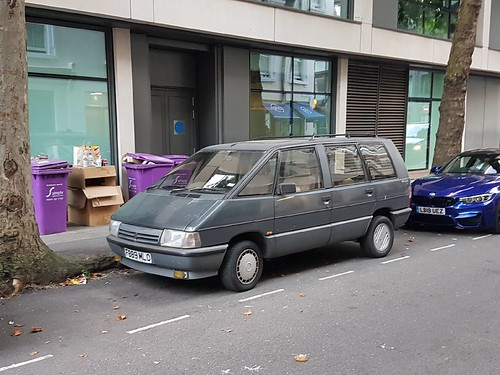building: (21, 1, 500, 200)
car: (110, 132, 405, 290), (411, 140, 500, 232)
street: (19, 246, 500, 375)
trash: (70, 168, 129, 230)
trash can: (28, 155, 75, 234), (123, 150, 178, 202)
